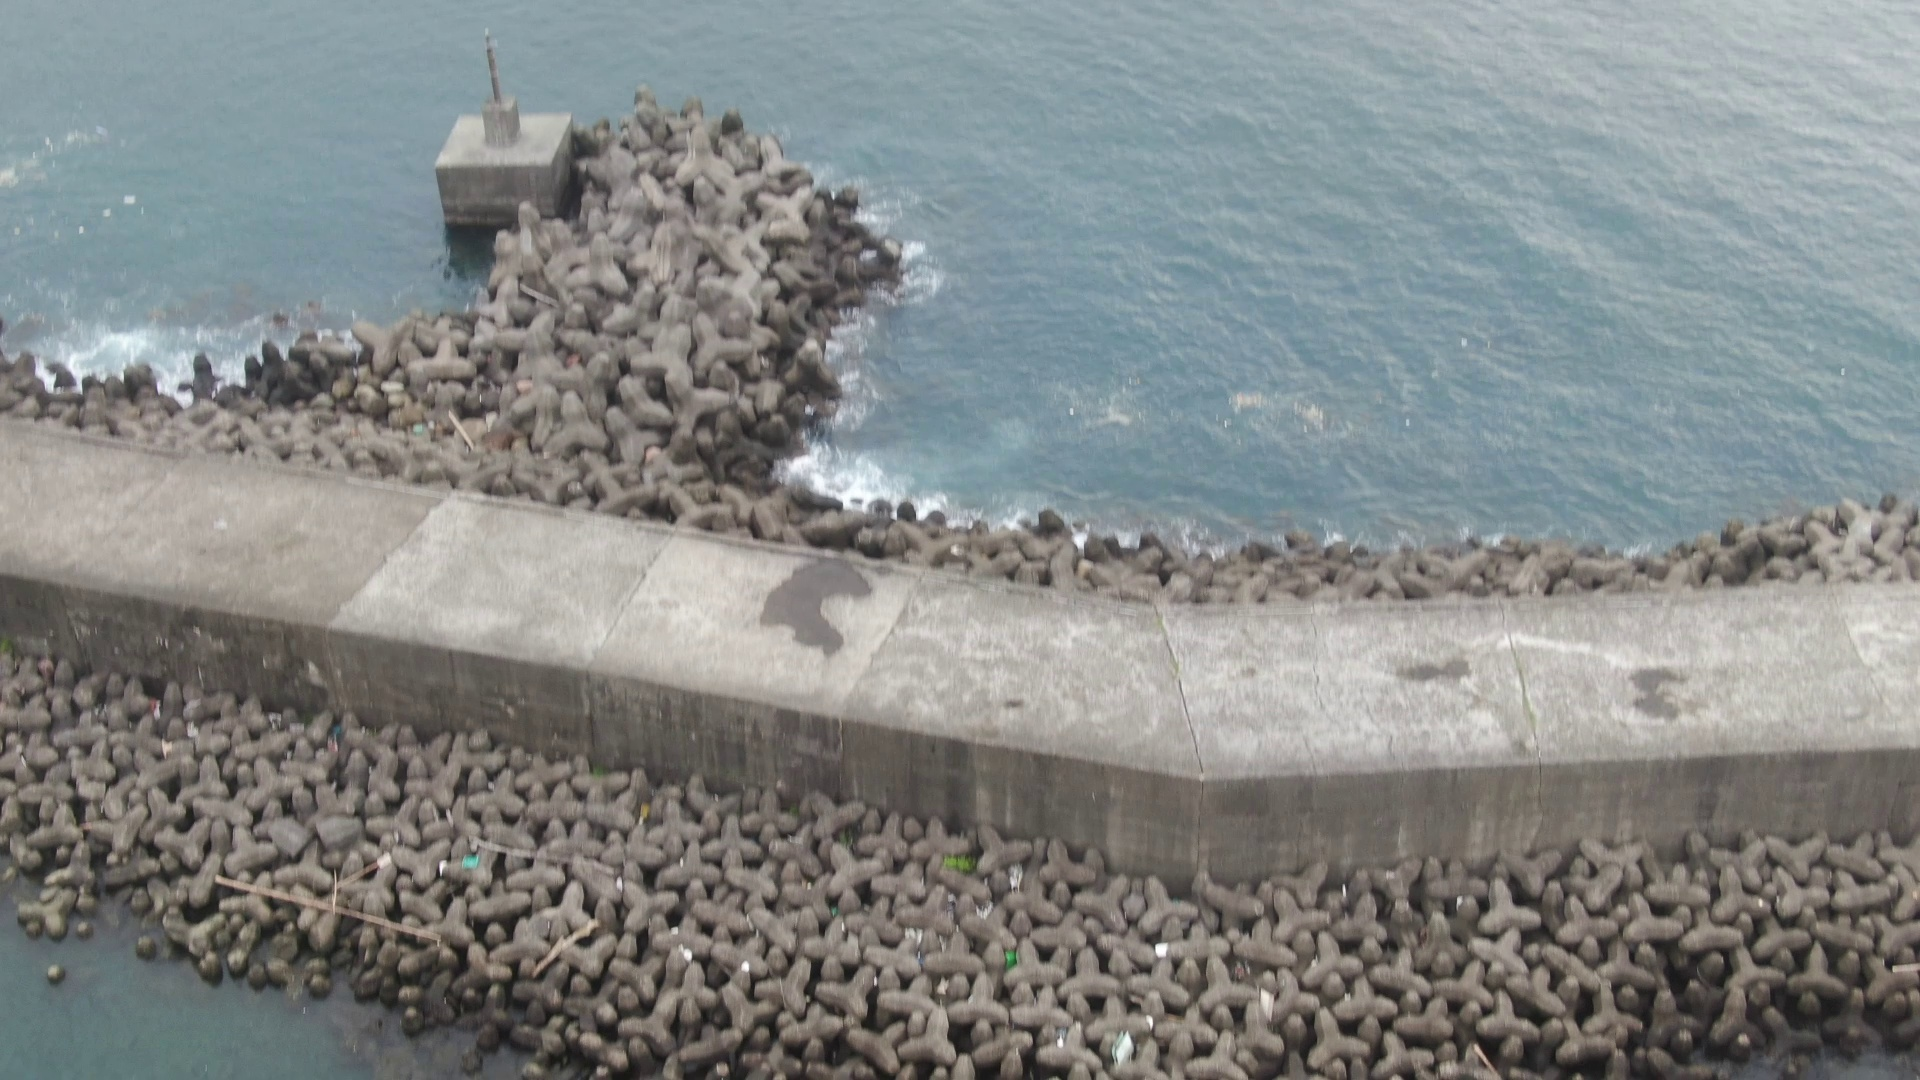garbage: (1102, 1021, 1149, 1077), (454, 847, 500, 876), (998, 931, 1019, 971)
